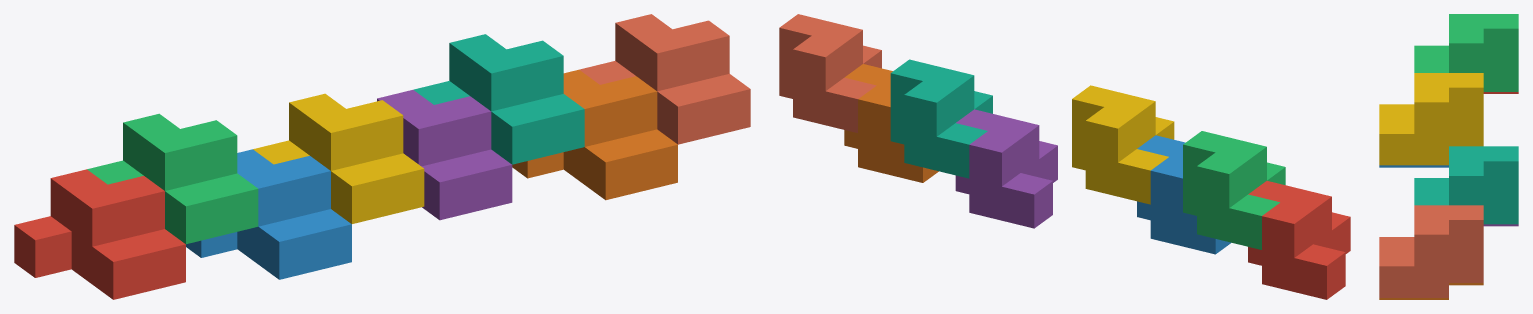
The model's file is tiling.obj.
3 views of the same model, side by side, from view 1: azimuth 30°, elevation 25°; view 2: azimuth 150°, elevation 25°; view 3: azimuth 270°, elevation 25° (orthographic). The views are drawn at different scales.
Visible parts, largest first — view 1: copy_1_domain_1, copy_1_domain_7, copy_1_domain_4, copy_1_domain_3, copy_1_domain_8, copy_1_domain_6, copy_1_domain_2, copy_1_domain_5; view 2: copy_1_domain_5, copy_1_domain_1, copy_1_domain_7, copy_1_domain_4, copy_1_domain_8, copy_1_domain_3, copy_1_domain_6, copy_1_domain_2; view 3: copy_1_domain_8, copy_1_domain_4, copy_1_domain_7, copy_1_domain_3, copy_1_domain_6, copy_1_domain_2, copy_1_domain_5.
Boxes of the visible parts, <box> form: copy_1_domain_1: <box>14,169,185,299</box>; copy_1_domain_7: <box>413,34,584,164</box>; copy_1_domain_4: <box>253,93,424,223</box>; copy_1_domain_3: <box>87,113,258,244</box>; copy_1_domain_8: <box>579,14,750,144</box>; copy_1_domain_6: <box>512,69,677,200</box>; copy_1_domain_2: <box>186,149,351,279</box>; copy_1_domain_5: <box>377,90,512,220</box>; copy_1_domain_5: <box>955,109,1057,228</box>; copy_1_domain_1: <box>1248,181,1350,299</box>; copy_1_domain_7: <box>890,59,992,178</box>; copy_1_domain_4: <box>1072,85,1174,204</box>; copy_1_domain_8: <box>779,14,881,132</box>; copy_1_domain_3: <box>1183,131,1285,249</box>; copy_1_domain_6: <box>844,64,938,182</box>; copy_1_domain_2: <box>1137,135,1231,254</box>; copy_1_domain_8: <box>1379,205,1483,297</box>; copy_1_domain_4: <box>1379,73,1483,165</box>; copy_1_domain_7: <box>1414,146,1518,224</box>; copy_1_domain_3: <box>1414,14,1518,91</box>; copy_1_domain_6: <box>1379,283,1483,299</box>; copy_1_domain_2: <box>1379,165,1448,167</box>; copy_1_domain_5: <box>1483,224,1518,226</box>.
Size of the model in its own units: 18 by 3 by 4.
